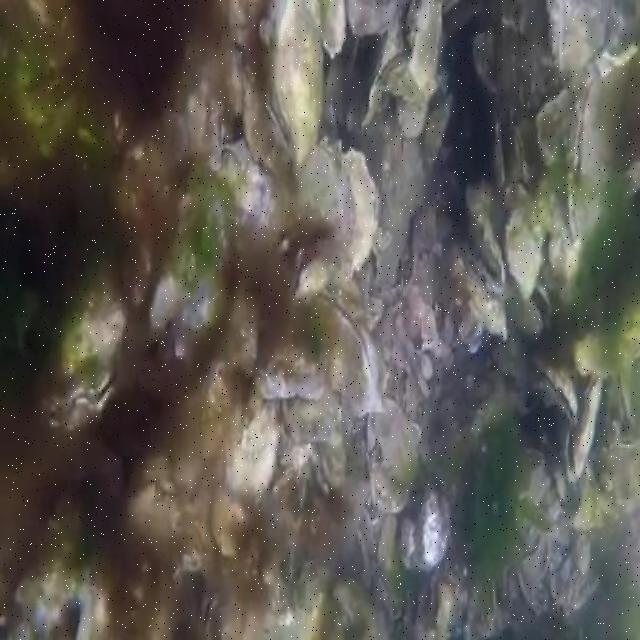Oyster-Closed: (567, 46, 638, 238), (302, 141, 377, 283), (266, 0, 324, 176), (575, 279, 638, 375), (367, 398, 420, 511), (546, 0, 622, 74), (455, 243, 508, 341), (168, 80, 225, 169), (227, 402, 279, 498), (258, 338, 326, 406), (503, 200, 549, 297), (465, 180, 507, 282), (415, 488, 452, 572), (283, 394, 339, 443), (537, 91, 574, 162), (346, 0, 407, 35), (423, 95, 451, 171), (318, 0, 346, 54), (473, 30, 497, 88), (430, 579, 454, 636), (198, 591, 225, 638), (505, 130, 526, 185)
Oyster-Open: (41, 266, 130, 435), (316, 291, 380, 415), (564, 374, 599, 483), (528, 362, 578, 431), (510, 285, 551, 342), (599, 435, 638, 476), (610, 376, 632, 428)
